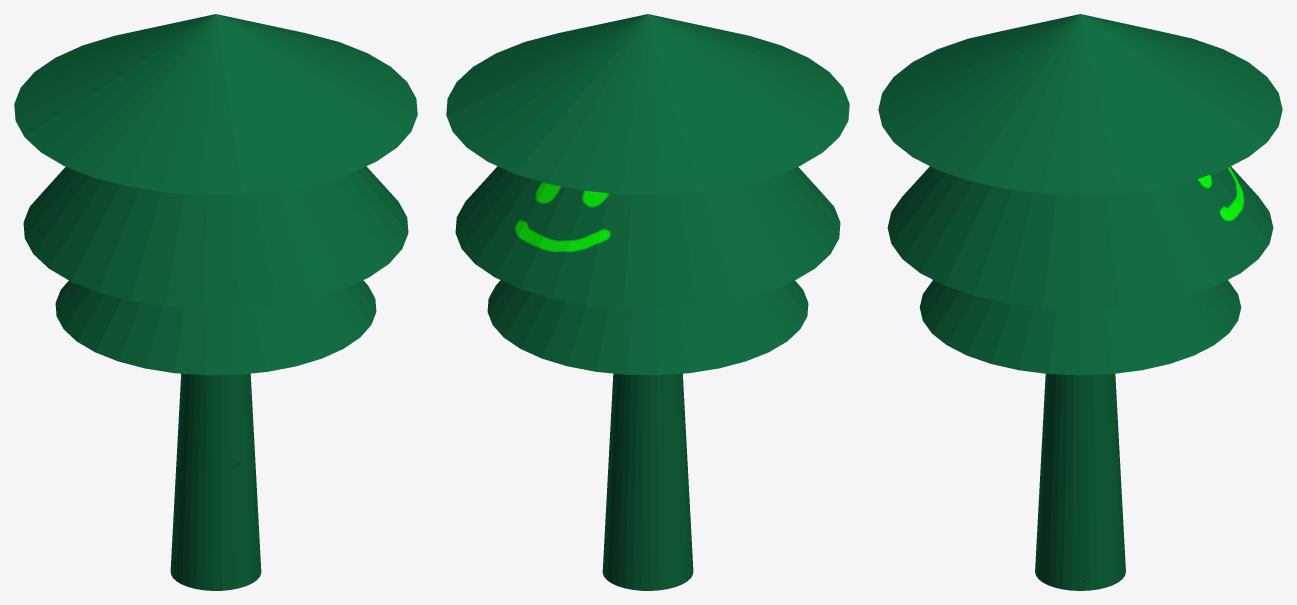
Rendered from treemon.glb.
3 renders of one model, left to right at view 1: azimuth 30°, elevation 25°; view 2: azimuth 150°, elevation 25°; view 3: azimuth 270°, elevation 25°, orthographic.
Parts seen in each view (by area): view 1: Cylinder; view 2: Cylinder; view 3: Cylinder.
Part boxes in pixels (x1,y1,x2,y2): Cylinder: (14,14,417,590); Cylinder: (446,14,849,590); Cylinder: (878,14,1282,590).
Bounding box in the file's own units: 3.28 × 5 × 3.28.
Materials: 1 (1 with a texture image).
